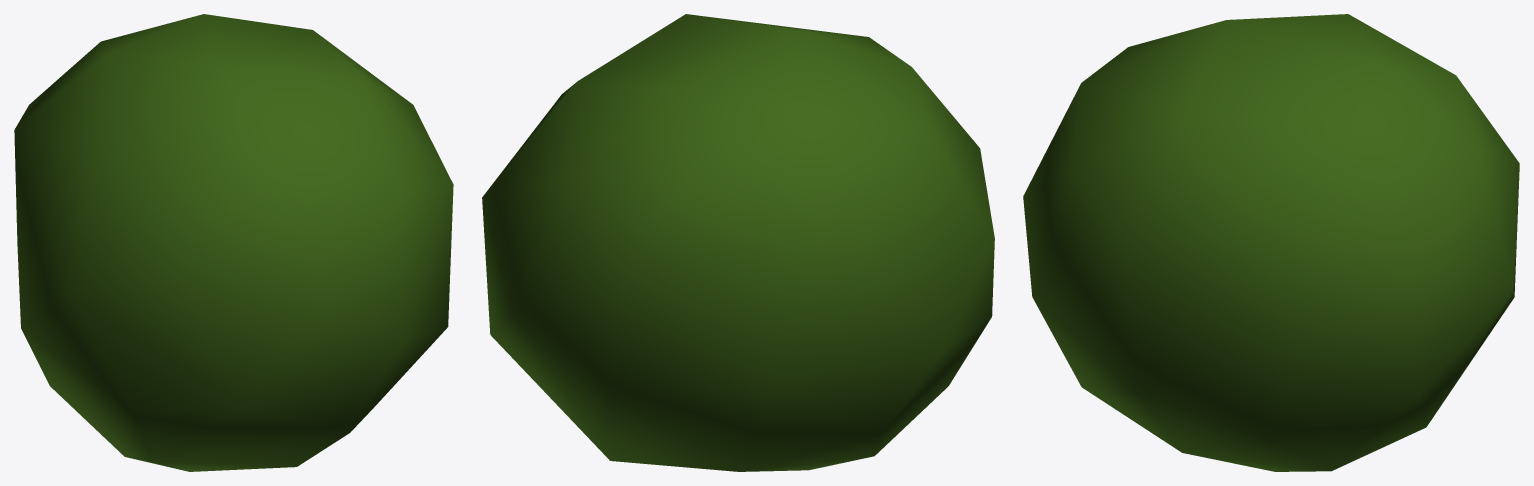
The model's file is TR_XaCu_0_HLOD.fbx.
The picture shows the model from 3 angles, left to right: view 1: azimuth 30°, elevation 25°; view 2: azimuth 150°, elevation 25°; view 3: azimuth 270°, elevation 25°; orthographic projection. The views are drawn at different scales.
Visible parts, largest first — view 1: TR_XaCu_0_HLOD; view 2: TR_XaCu_0_HLOD; view 3: TR_XaCu_0_HLOD.
Boxes of the visible parts, x1,y1,x2,y2 form: TR_XaCu_0_HLOD: (14,14,453,471); TR_XaCu_0_HLOD: (482,14,994,471); TR_XaCu_0_HLOD: (1023,14,1519,471).
Bounding box in the file's own units: 11.12 × 10.75 × 11.62.
